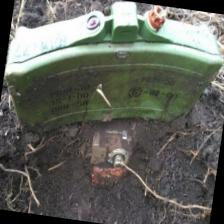MOH-50: (4, 0, 224, 159)
